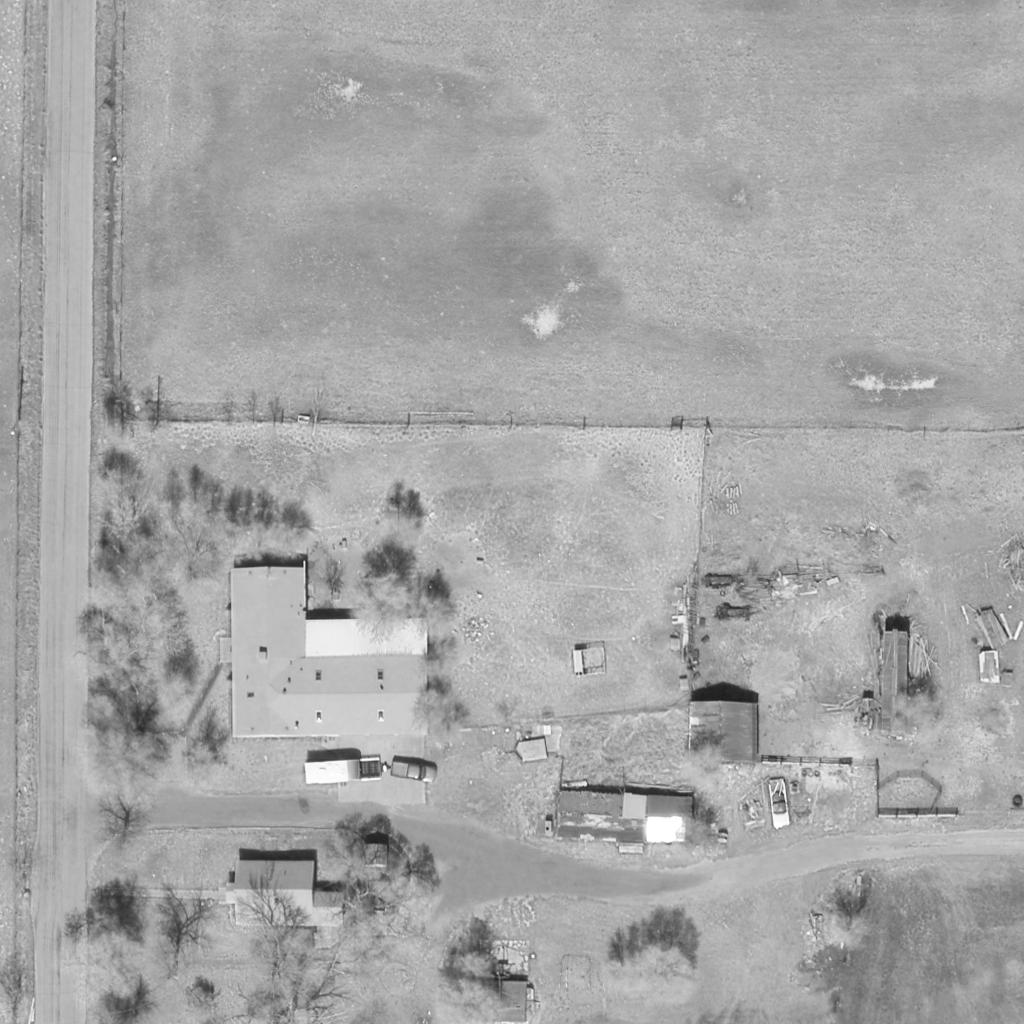vehicle: (304, 759, 382, 785), (767, 778, 791, 828), (392, 762, 438, 784)
